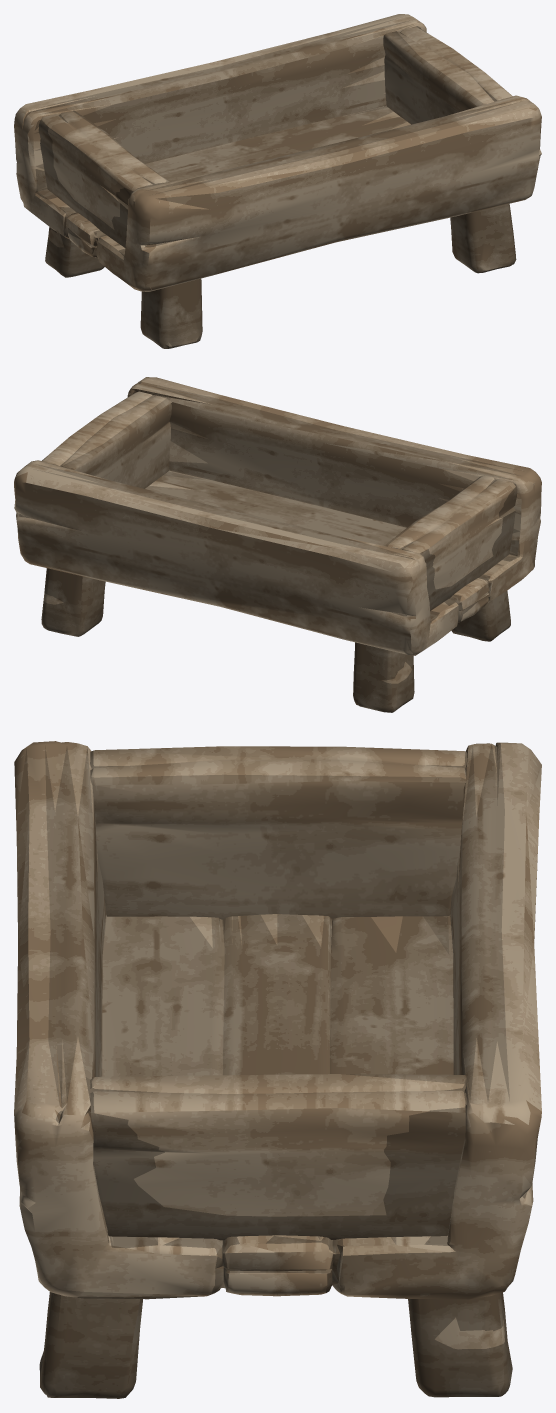
File: ranch_feeding_trough.glb
3 views of the same model, one above another, from view 1: azimuth 30°, elevation 25°; view 2: azimuth 150°, elevation 25°; view 3: azimuth 270°, elevation 25° (orthographic). The views are drawn at different scales.
Parts seen in each view (by area): view 1: RanchFeedingTrough; view 2: RanchFeedingTrough; view 3: RanchFeedingTrough.
Part boxes in pixels (<box>): RanchFeedingTrough: <box>14,14,541,348</box>; RanchFeedingTrough: <box>14,377,541,712</box>; RanchFeedingTrough: <box>14,741,541,1398</box>.
Size of the model in its own units: 1.43 by 0.5396 by 0.841.
3 materials, 3 textured.
